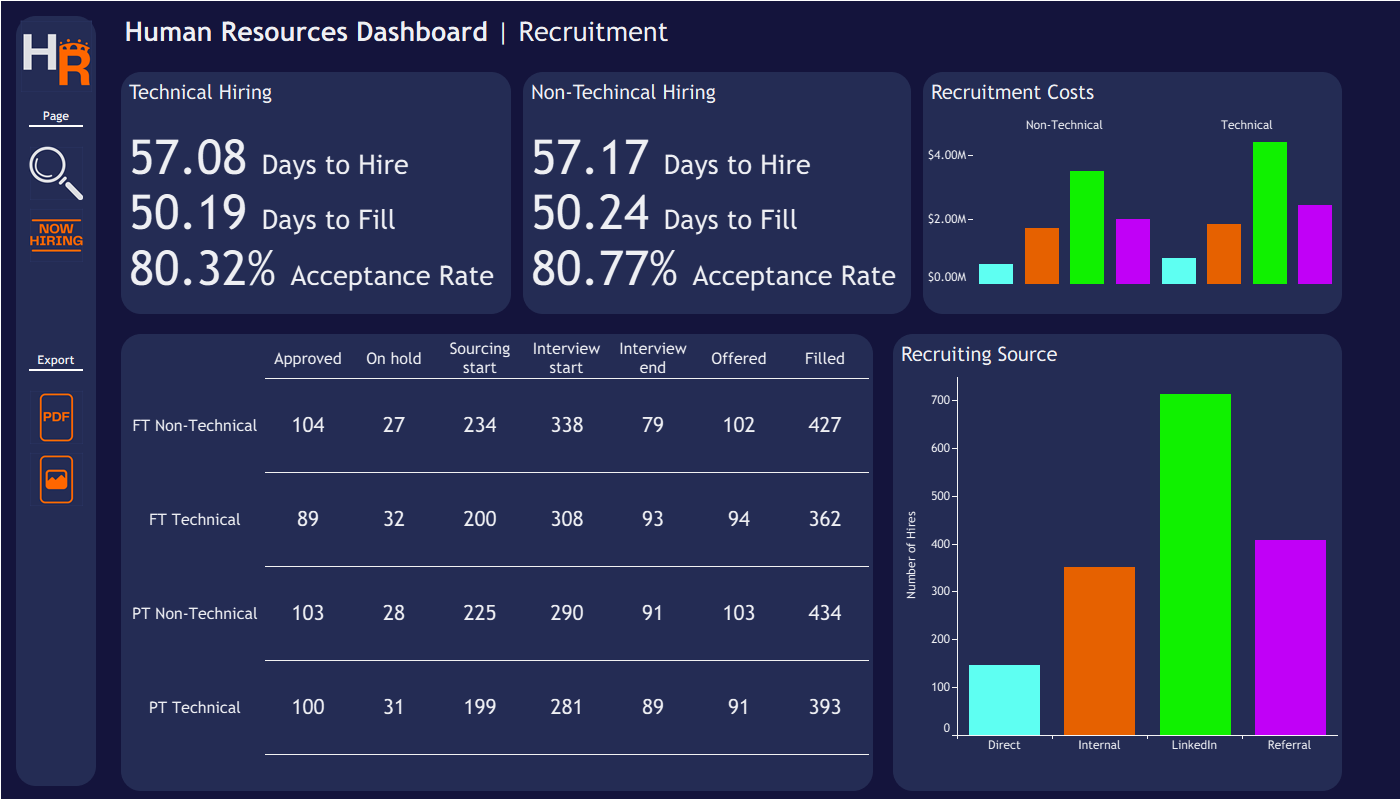

Layout of this report page (visuals, bound fields, positions):
{"tool":"tableau","page":{"name":"Recruitment","canvas":[1400,800],"ordinal":1},"visuals":[{"type":"image","param":"Image/No Linear no Blur page 2.png","box":[0,0,1400,800]},{"type":"text","box":[110,0,990,61]},{"type":"blank","box":[1100,0,251,61]},{"type":"image","param":"Image/HR Logo(3).png","box":[15,15,80,80]},{"type":"worksheet","title":"Metrics Tech","mark":"Automatic","box":[120,71,390,242]},{"type":"worksheet","title":"Metrics Nontech","mark":"Automatic","box":[522,71,388,242]},{"type":"worksheet","title":"Recruitment Costs","mark":"Automatic","rows":["Offer Bonus"],"cols":["Role Type","Recruiting Channel"],"box":[922,71,418.9,216]},{"type":"text","box":[24,104,62,18]},{"type":"blank","box":[24,122,62,19]},{"type":"dashboard-object","box":[24,141,62,62]},{"type":"dashboard-object","box":[24,203,62,62]},{"type":"blank","box":[24,265,62,83]},{"type":"worksheet","title":"HIre Grid","mark":"Automatic","rows":["Calculation_1631147531422064645"],"cols":["Status"],"box":[120,333,752,425]},{"type":"worksheet","title":"Source","mark":"Automatic","rows":["Calculation_1631147531427971081"],"cols":["Recruiting Channel"],"box":[892,333,449,425]},{"type":"text","box":[24,348,62,18]},{"type":"blank","box":[24,366,62,19]},{"type":"dashboard-object","box":[24,385,62,62]},{"type":"dashboard-object","box":[24,447,62,62]},{"type":"blank","box":[120,758,752,32]},{"type":"blank","box":[892,758,449,32]}]}

Visuals, with their boxes on the page's 1400x800 design canvas (x1, y1, x2, y2). These are canvas units, not pixel positions in the 1400x799 screenshot, which may show the page scaled, cropped or inside an application window:
image: (left=0, top=0, right=1400, bottom=800)
text: (left=110, top=0, right=1100, bottom=61)
blank: (left=1100, top=0, right=1351, bottom=61)
image: (left=15, top=15, right=95, bottom=95)
"Metrics Tech" worksheet: (left=120, top=71, right=510, bottom=313)
"Metrics Nontech" worksheet: (left=522, top=71, right=910, bottom=313)
"Recruitment Costs" worksheet: (left=922, top=71, right=1341, bottom=287)
text: (left=24, top=104, right=86, bottom=122)
blank: (left=24, top=122, right=86, bottom=141)
dashboard-object: (left=24, top=141, right=86, bottom=203)
dashboard-object: (left=24, top=203, right=86, bottom=265)
blank: (left=24, top=265, right=86, bottom=348)
"HIre Grid" worksheet: (left=120, top=333, right=872, bottom=758)
"Source" worksheet: (left=892, top=333, right=1341, bottom=758)
text: (left=24, top=348, right=86, bottom=366)
blank: (left=24, top=366, right=86, bottom=385)
dashboard-object: (left=24, top=385, right=86, bottom=447)
dashboard-object: (left=24, top=447, right=86, bottom=509)
blank: (left=120, top=758, right=872, bottom=790)
blank: (left=892, top=758, right=1341, bottom=790)
